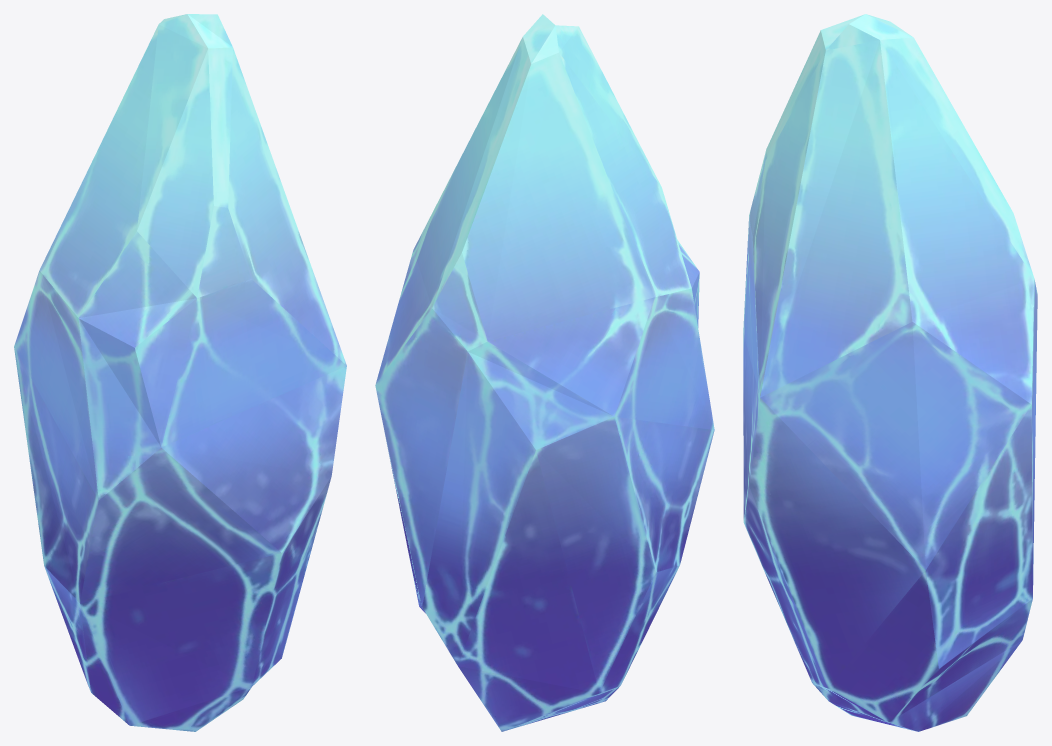
Rendered from IcyBlueCrystal.glb.
3 views of the same model, side by side, from view 1: azimuth 30°, elevation 25°; view 2: azimuth 150°, elevation 25°; view 3: azimuth 270°, elevation 25° (orthographic). The views are drawn at different scales.
Parts seen in each view (by area): view 1: Ctystal_L_lambert1_0; view 2: Ctystal_L_lambert1_0; view 3: Ctystal_L_lambert1_0.
Part boxes in pixels (x1,y1,x2,y2): Ctystal_L_lambert1_0: (14, 14, 346, 731); Ctystal_L_lambert1_0: (375, 14, 714, 731); Ctystal_L_lambert1_0: (743, 14, 1037, 731).
Size of the model in its own units: 1.97 by 5.27 by 2.
1 material, 1 textured.
